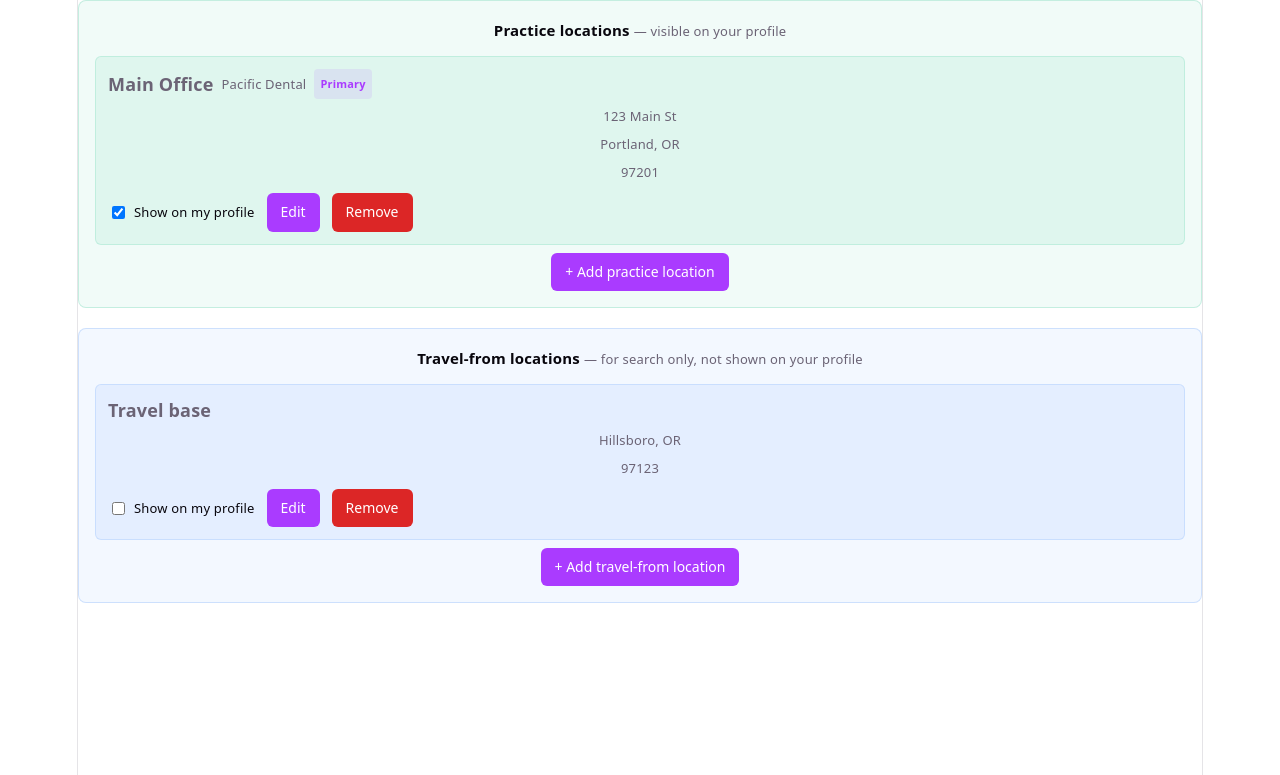
Test: LocationEntry › cancels edit and returns to card view
The image size is (1280, 775).
Check: the text "Main Office" is shown, box [108, 71, 214, 97]
Click Edit
Click the button "Edit" below "Main Office": (293, 213) [266, 194, 320, 232]
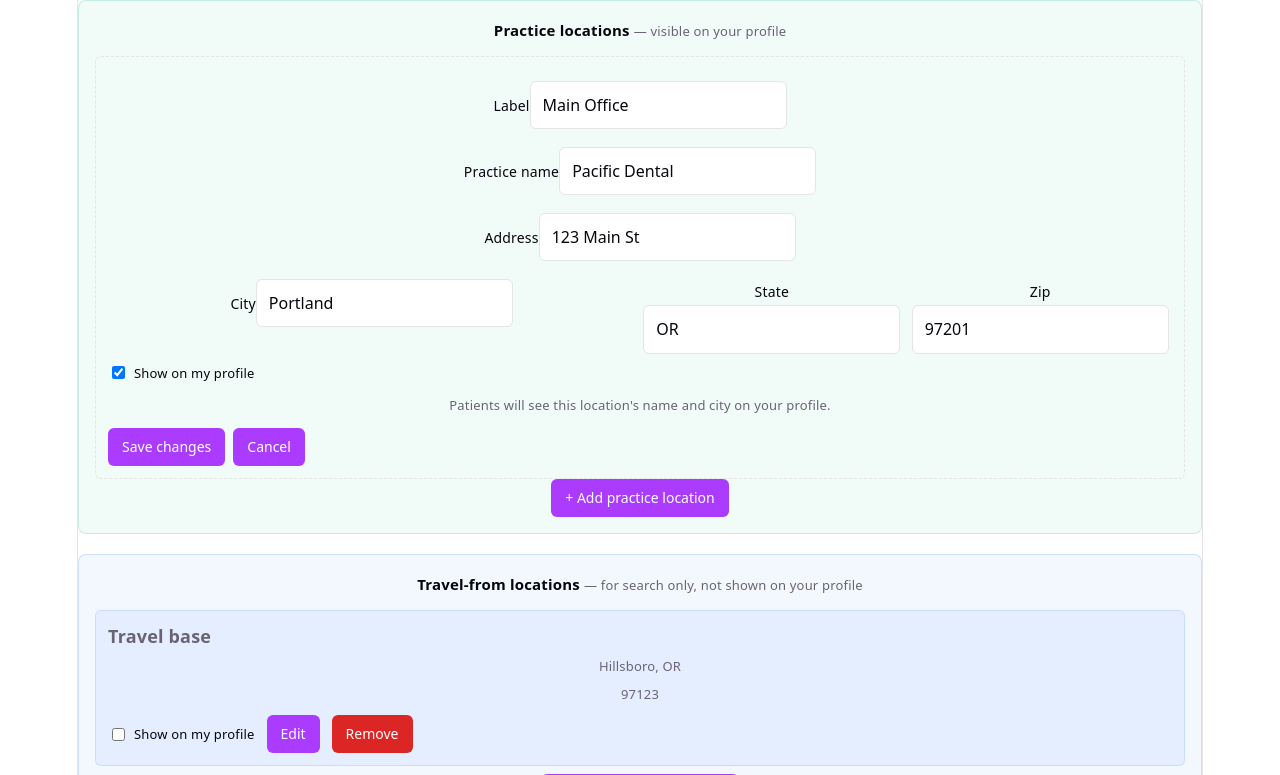
Click the button "Cancel": (269, 447) [233, 428, 305, 466]
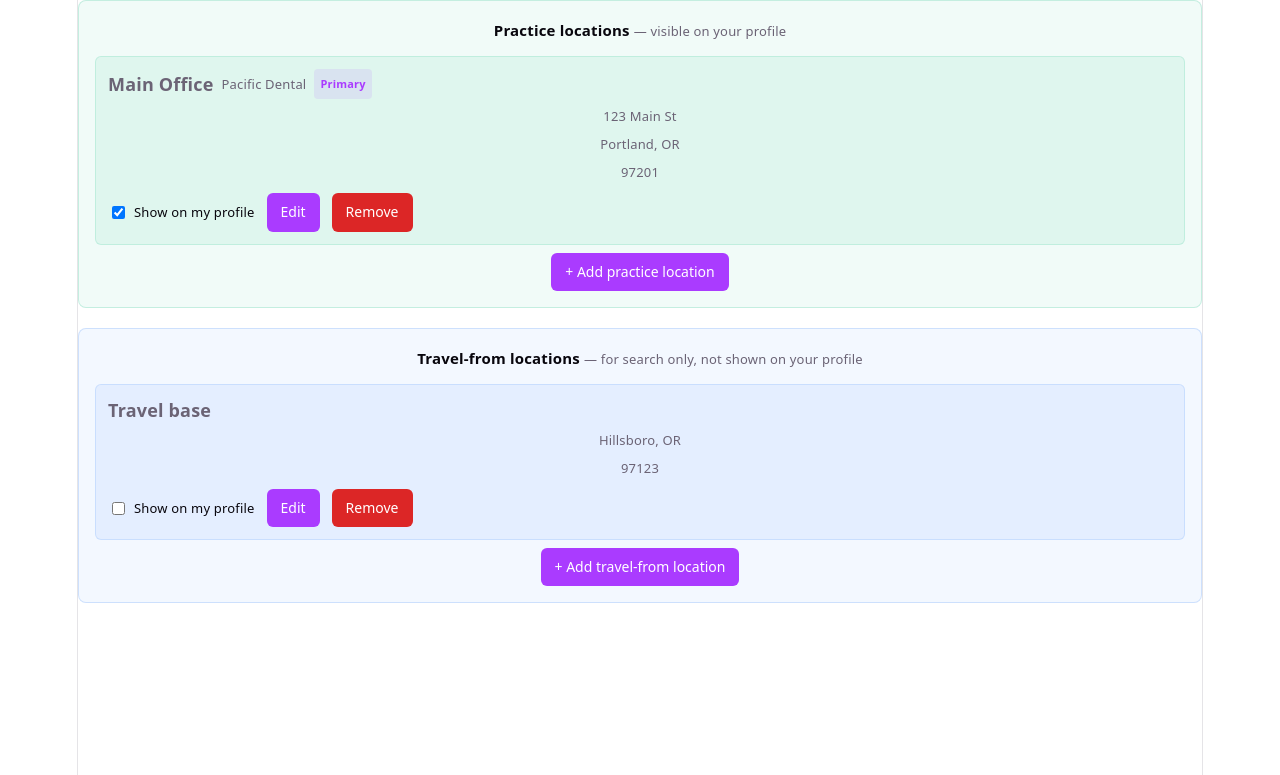
Check: the text "Main Office" is shown, box [108, 71, 214, 97]
Check: the button "Save changes" is gone
